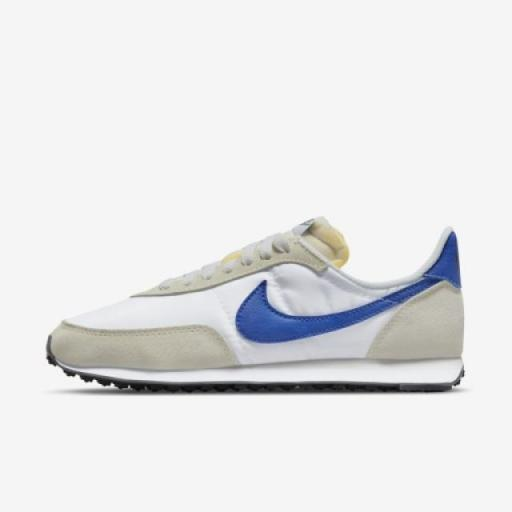Nike: (228, 271, 448, 350)
